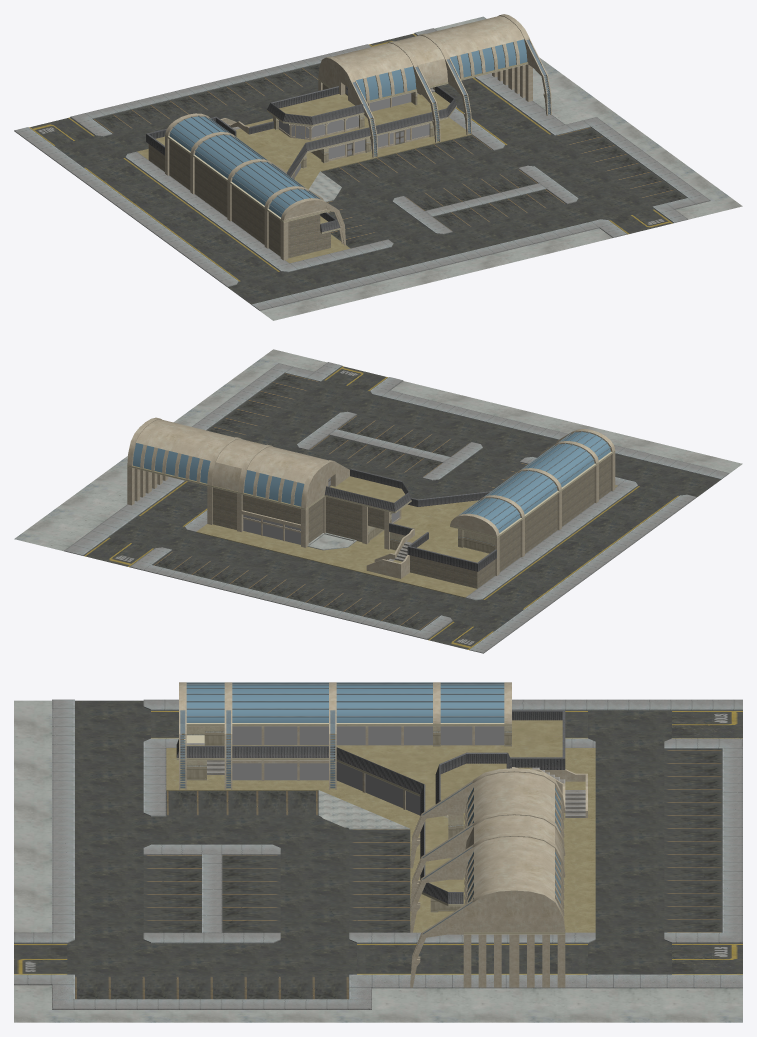
The model's file is shoppingCentre.obj.
3 renders of one model, top to bottom at view 1: azimuth 30°, elevation 25°; view 2: azimuth 150°, elevation 25°; view 3: azimuth 270°, elevation 25°, orthographic. The views are drawn at different scales.
Visible parts, largest first — view 1: road1, sidewalks sidewalk1, sidewalk1 cement_fill, exterior_walls, exterior_support, roof2 polySurface643, roof2 pCylinder31, level_02_walkway, level_01_walkway, level_03_windows, railing_01 railings, level_03_walls polySurface633 (+7 smaller); view 2: road1, sidewalks sidewalk1, sidewalk1 cement_fill, exterior_walls, roof2 polySurface643, roof2 pCylinder31, level_01_walkway, exterior_support, level_02_walkway, level_03_windows, level_03_walls polySurface633, roof2 polySurface500 (+10 smaller); view 3: road1, sidewalks sidewalk1, sidewalk1 cement_fill, level_01_walkway, roof2 pCylinder31, exterior_support, roof2 polySurface643, level_02_walkway, pCylinder40 level_03_walls, roof2 polySurface500, railing_01 railings, polySurface575 level_2_windows (+14 smaller).
Boxes of the visible parts, bbox=[...] form: road1: bbox=[29, 33, 686, 304]; sidewalks sidewalk1: bbox=[14, 28, 710, 310]; sidewalk1 cement_fill: bbox=[260, 16, 742, 320]; exterior_walls: bbox=[148, 84, 330, 258]; exterior_support: bbox=[165, 38, 551, 260]; roof2 polySurface643: bbox=[332, 16, 524, 80]; roof2 pCylinder31: bbox=[169, 116, 317, 217]; level_02_walkway: bbox=[156, 92, 456, 233]; level_01_walkway: bbox=[137, 117, 471, 263]; level_03_windows: bbox=[356, 39, 527, 100]; railing_01 railings: bbox=[286, 86, 456, 232]; level_03_walls polySurface633: bbox=[363, 41, 519, 101]; road1: bbox=[83, 366, 720, 650]; sidewalks sidewalk1: bbox=[64, 362, 729, 653]; sidewalk1 cement_fill: bbox=[14, 349, 742, 551]; exterior_walls: bbox=[212, 455, 610, 588]; roof2 polySurface643: bbox=[136, 419, 327, 483]; roof2 pCylinder31: bbox=[463, 432, 610, 532]; level_01_walkway: bbox=[196, 485, 617, 597]; exterior_support: bbox=[127, 432, 615, 575]; level_02_walkway: bbox=[394, 500, 488, 562]; level_03_windows: bbox=[133, 443, 304, 506]; level_03_walls polySurface633: bbox=[140, 444, 297, 505]; roof2 polySurface500: bbox=[459, 431, 610, 529]; road1: bbox=[14, 700, 742, 999]; sidewalks sidewalk1: bbox=[14, 699, 742, 1009]; sidewalk1 cement_fill: bbox=[14, 700, 742, 1022]; level_01_walkway: bbox=[166, 748, 595, 932]; roof2 pCylinder31: bbox=[186, 685, 504, 722]; exterior_support: bbox=[179, 709, 565, 987]; roof2 polySurface643: bbox=[474, 772, 554, 898]; level_02_walkway: bbox=[176, 720, 562, 906]; pCylinder40 level_03_walls: bbox=[463, 887, 565, 932]; roof2 polySurface500: bbox=[186, 682, 504, 717]; railing_01 railings: bbox=[176, 736, 463, 903]; polySurface575 level_2_windows: bbox=[232, 726, 328, 745].
Bounding box in the file's own units: 300 × 42.5 × 287.
